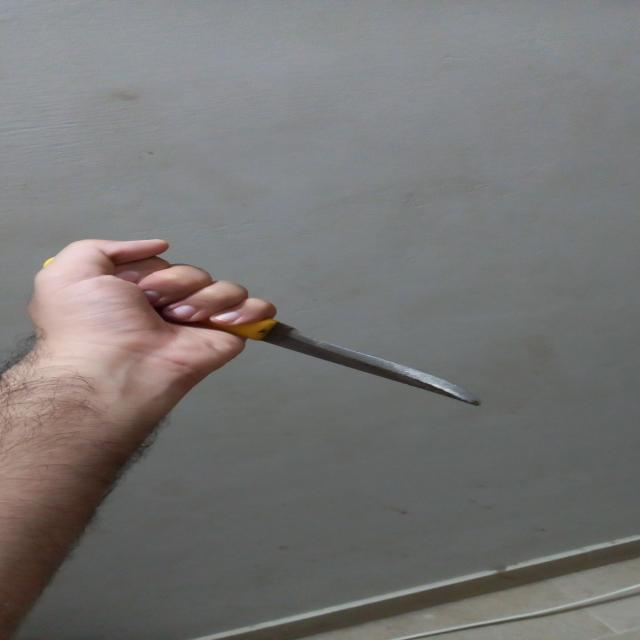weapon: (87, 255, 487, 409)
